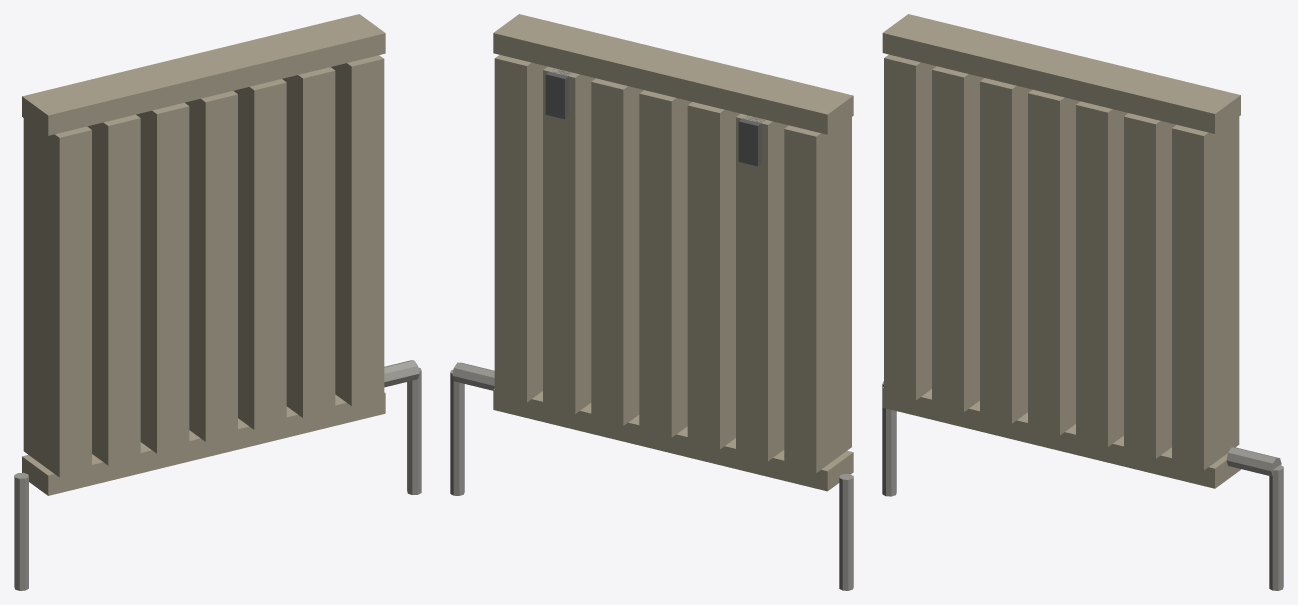
Rendered from radiator-column.glb.
The picture shows the model from 3 angles, left to right: view 1: azimuth 30°, elevation 25°; view 2: azimuth 150°, elevation 25°; view 3: azimuth 330°, elevation 25°; orthographic projection.
Parts seen in each view (by area): view 1: plastic-light, brushed; view 2: plastic-light, brushed, metal; view 3: plastic-light, brushed.
Boxes of the visible parts, x1,y1,x2,y2 form: plastic-light: (22, 14, 385, 495); brushed: (14, 360, 421, 590); plastic-light: (493, 14, 853, 491); brushed: (450, 362, 853, 590); metal: (545, 69, 764, 166); plastic-light: (882, 14, 1240, 488); brushed: (882, 381, 1283, 590).
Size of the model in its own units: 0.625 by 0.71 by 0.106.
